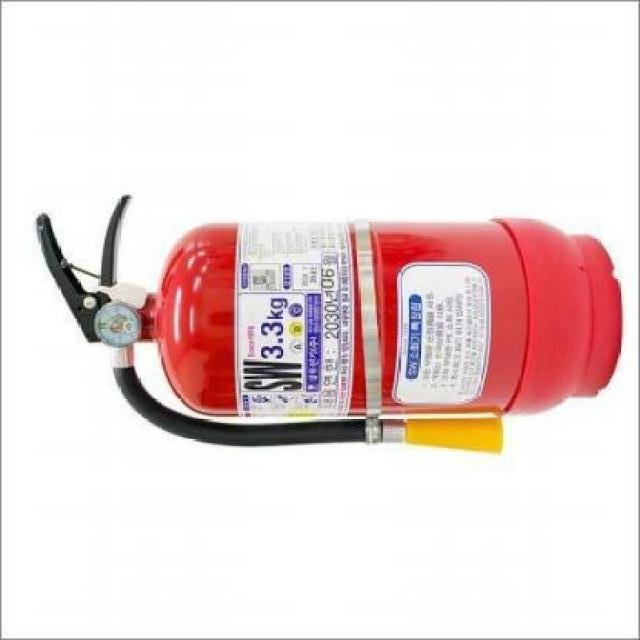fire extinguisher: (35, 195, 622, 457)
